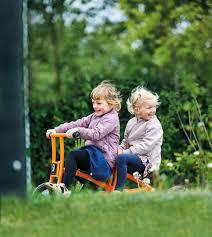child: (36, 79, 122, 188), (114, 83, 168, 191)
